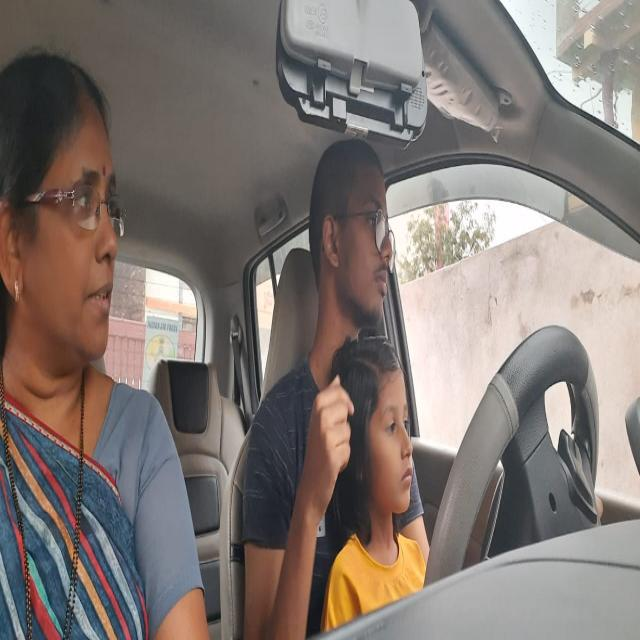child: (332, 331, 420, 536)
person: (0, 48, 131, 404), (306, 140, 402, 325)
